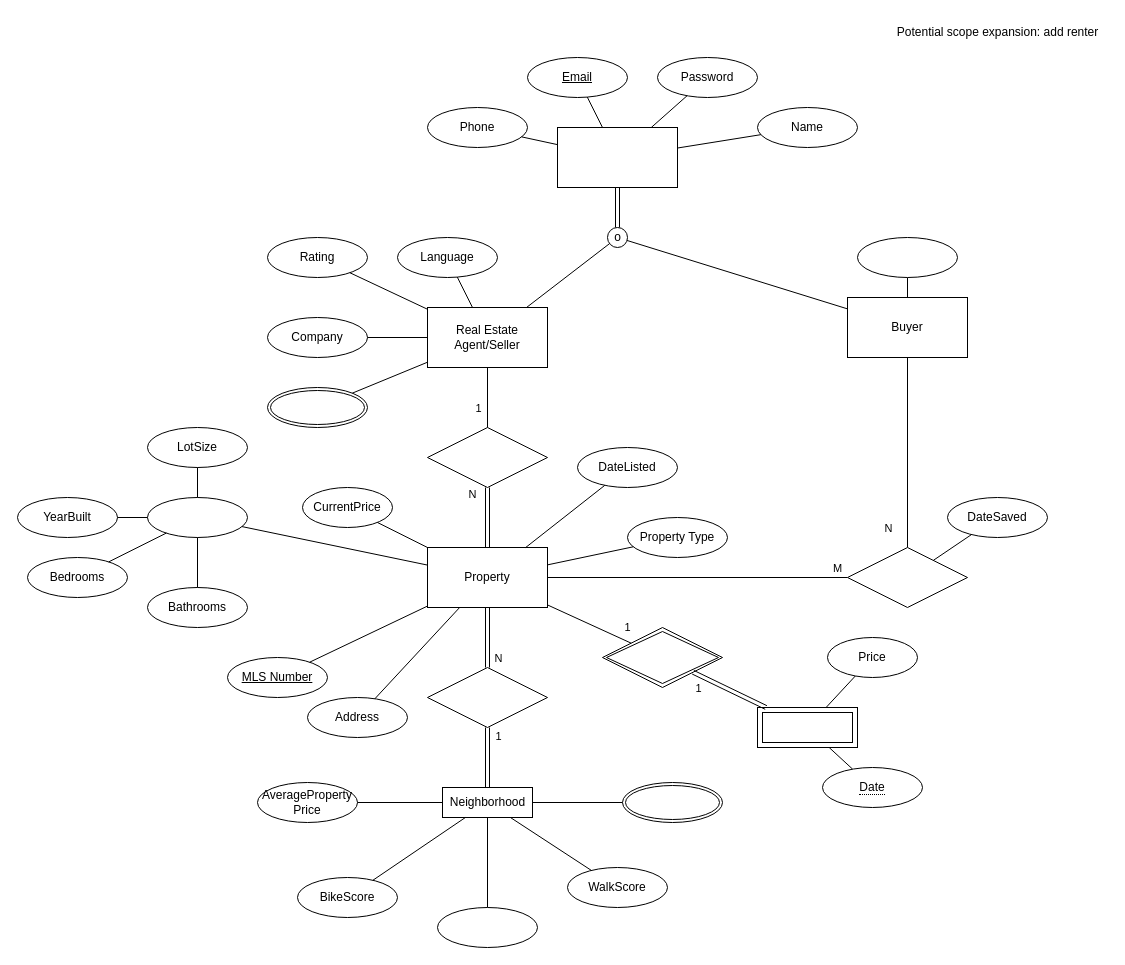
The diagram is 1125 pixels wide and 965 high, and some of its shapes have lost their labels. The shapes that lost their labels are listed below. From the top down, each one's centre as x and y in pixels, then its label:
point 617,157: WebsiteUser
point 907,257: Screenname
point 317,407: Listings
point 487,457: SELLS
point 197,517: Features
point 907,577: SAVED_BY
point 662,657: HAS
point 487,697: LOCATED_IN
point 807,727: PriceHistory
point 672,802: Amenities
point 487,927: NeighborhoodID
